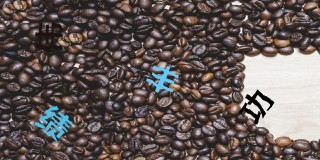丰: (146, 60, 177, 94)
伟: (31, 23, 69, 53)
功: (238, 90, 275, 124)
绩: (32, 105, 73, 143)
